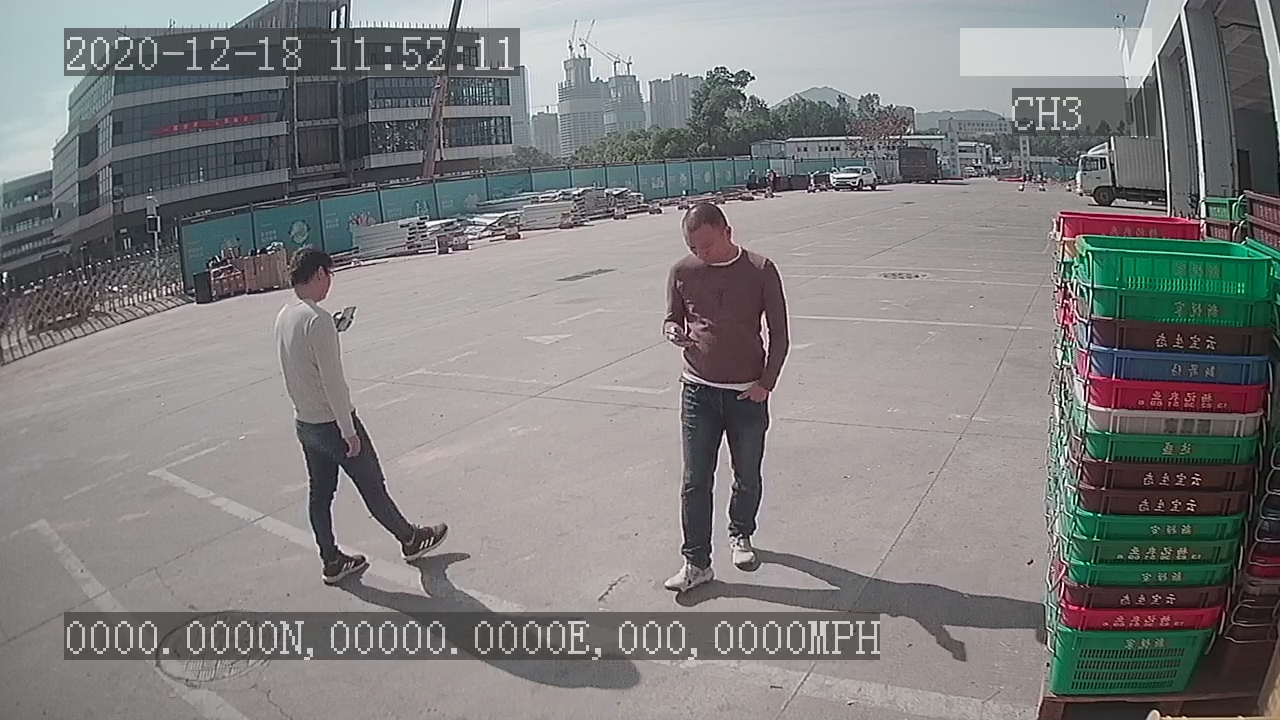person: (270, 235, 454, 595), (656, 194, 797, 599)
